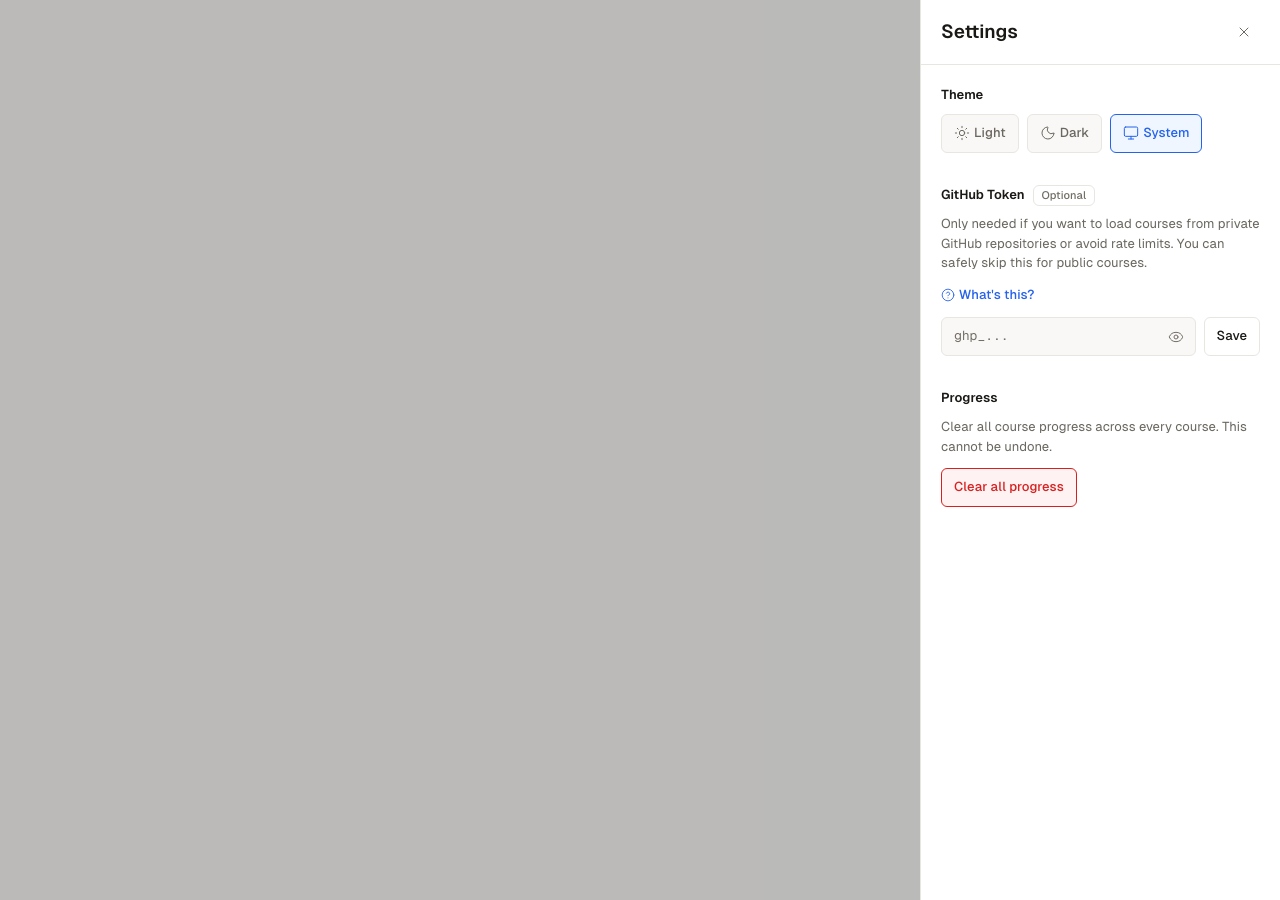
it: SettingsPanel › clear all progress › shows confirmation before clearing
This screenshot has width=1280, height=900.
Click the button "Clear all progress" at [1009, 488], box [941,468,1077,507]
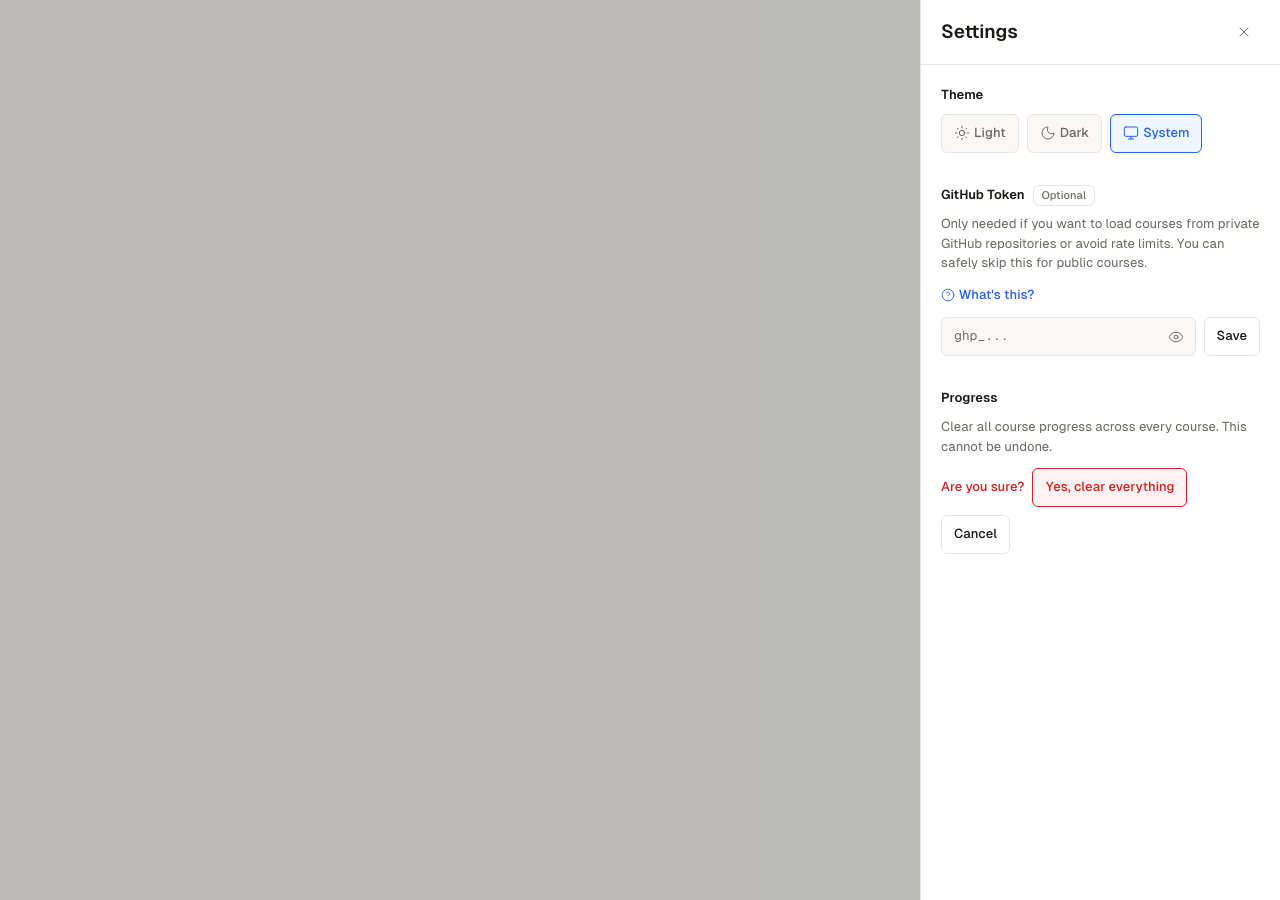
Check: the text "Are you sure?" is shown, box [941,477,1024,498]
Check: the button "Yes, clear everything" is shown, box [1032,468,1188,507]
Check: the button "Cancel" is shown, box [941,515,1010,554]
